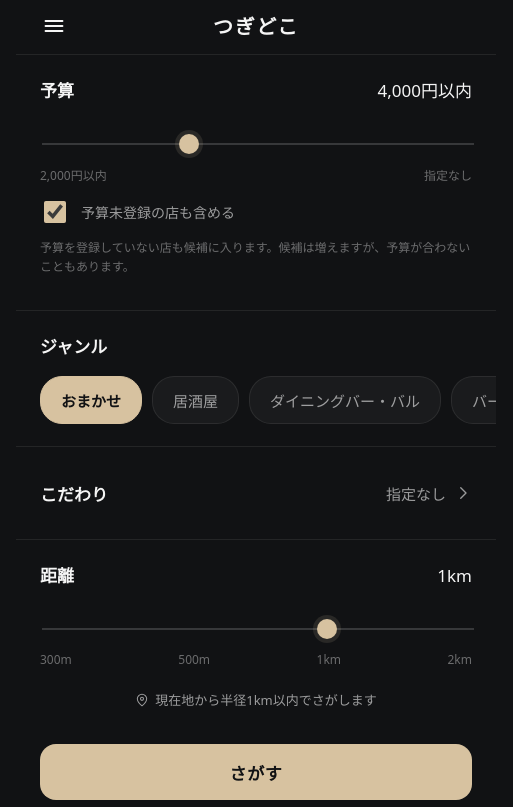
Test: 検索 › 営業時間・定休日を表示する（営業中の判定はしない）
This screenshot has width=513, height=807.
Click the button "さがす". click: [256, 772]
box: x1=40 y1=744 x2=472 y2=800
(page scrolled)
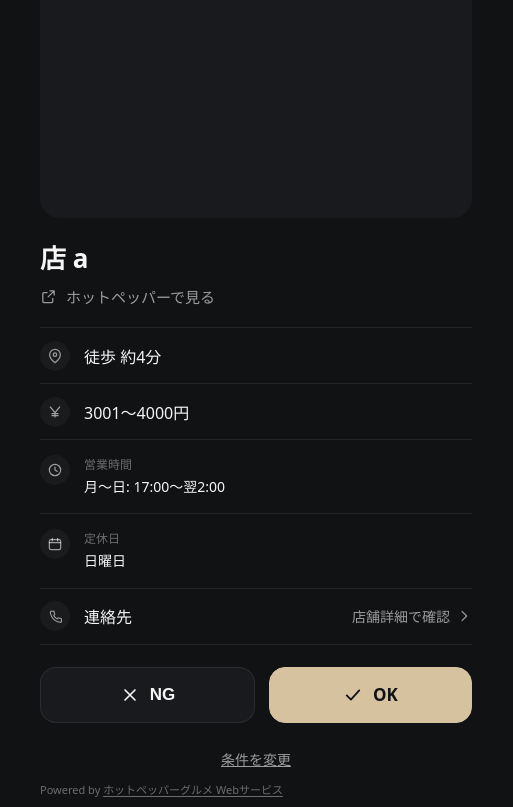
Now the text "営業時間" is shown, box x1=84 y1=456 x2=132 y2=473
Now the text "月～日: 17:00～翌2:00" is shown, box x1=84 y1=476 x2=225 y2=498
Now the text "定休日" is shown, box x1=84 y1=529 x2=126 y2=547
